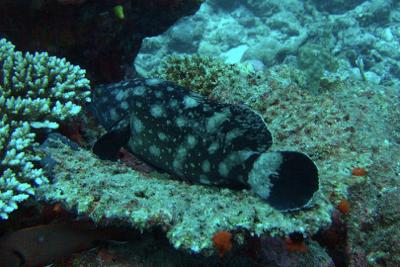Serranidae -Groupers-: (80, 74, 321, 214)
